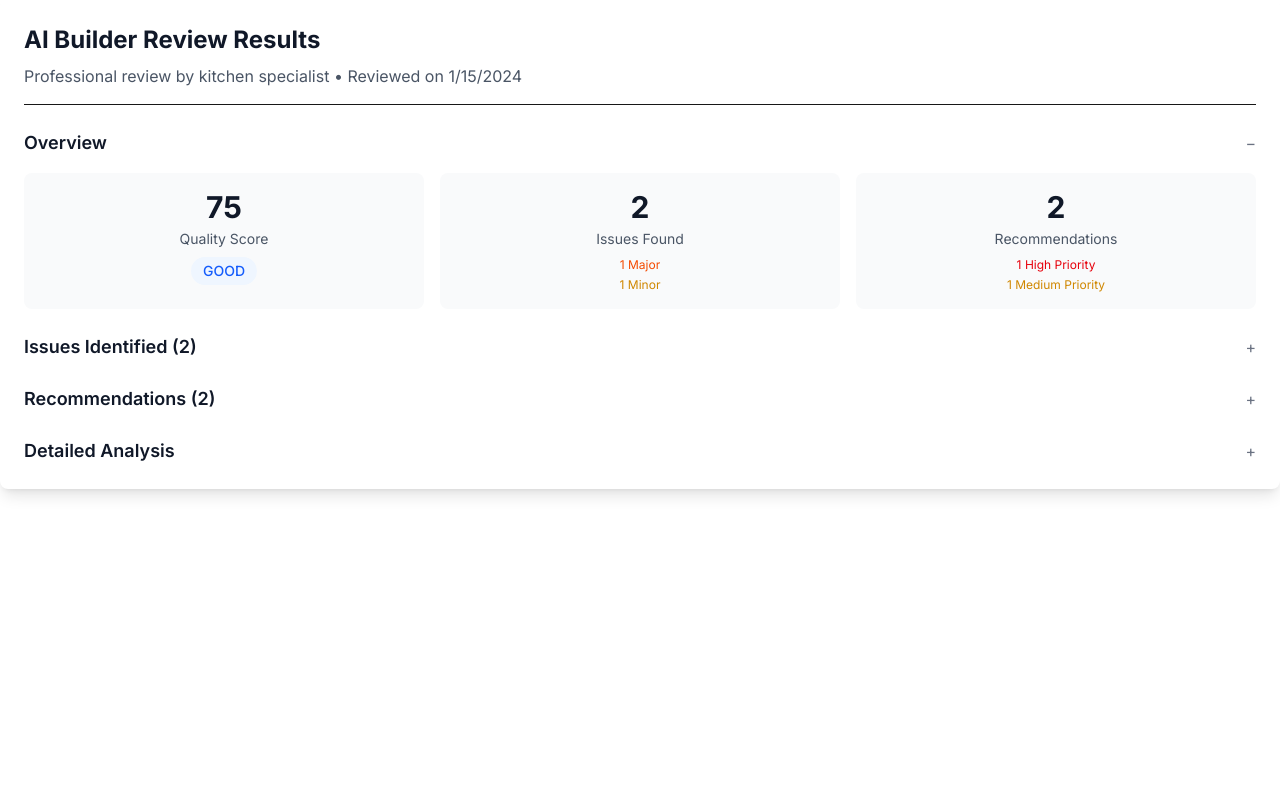
Test: BuilderReviewDisplay › should display detailed analysis when expanded
This screenshot has width=1280, height=800.
# Expand detailed analysis section
Step 1. Click the heading "Detailed Analysis" → point(99, 451), box [24,437,175,465]
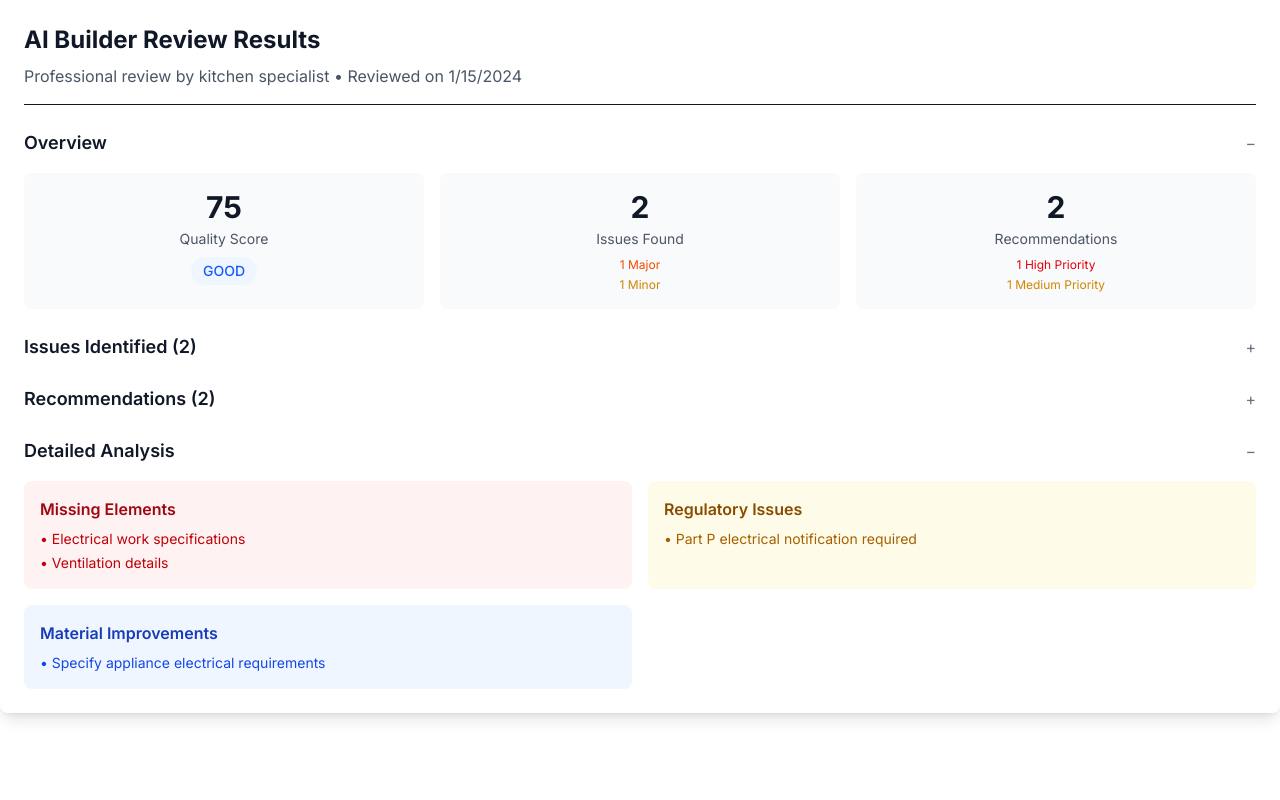
Expected: the heading "Missing Elements" is shown, [40,499,176,519]
Expected: the list item "• Electrical work specifications" is shown, [40,530,245,547]
Expected: the list item "• Ventilation details" is shown, [40,554,168,571]
